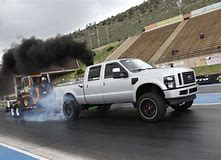smoke: (1, 33, 95, 75)
